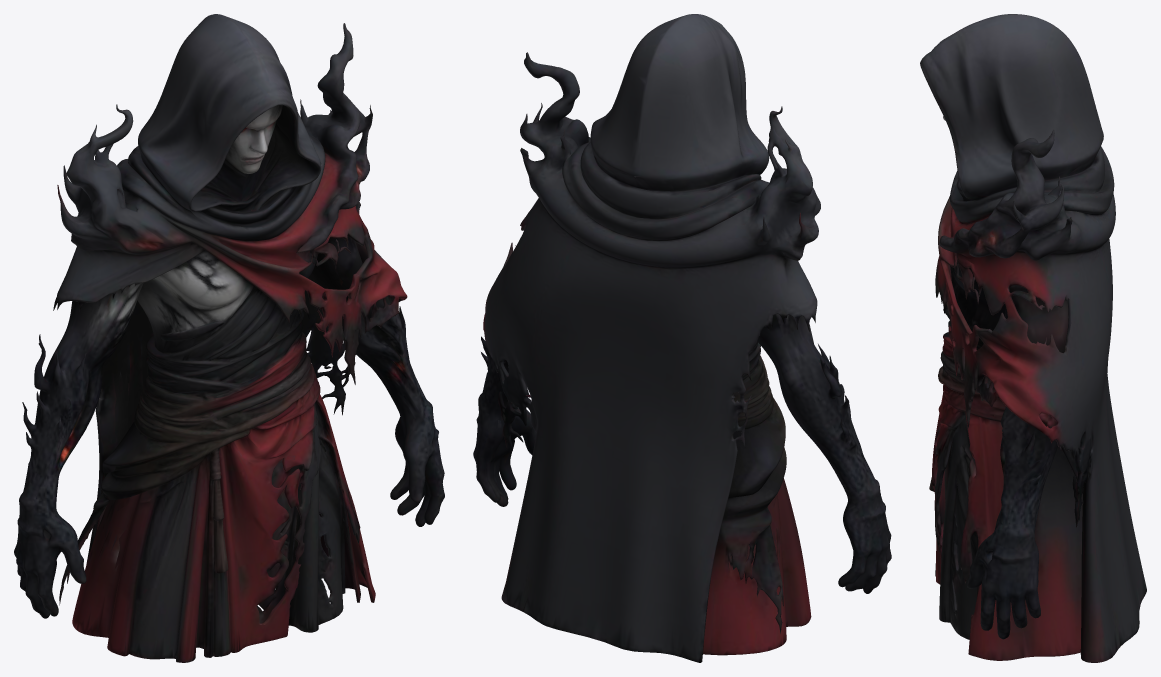
Rendered from np_echo.glb.
The picture shows the model from 3 angles, left to right: view 1: azimuth 30°, elevation 25°; view 2: azimuth 150°, elevation 25°; view 3: azimuth 270°, elevation 25°; orthographic projection. The views are drawn at different scales.
Visible parts, largest first — view 1: node_0; view 2: node_0; view 3: node_0.
Part boxes in pixels (left/top/right/bottom): node_0: left=14, top=14, right=444, bottom=662; node_0: left=473, top=14, right=891, bottom=662; node_0: left=920, top=14, right=1146, bottom=662.
Size of the model in its own units: 0.7769 by 1.06 by 0.3744.
1 material, 1 textured.
